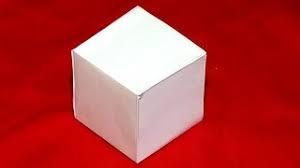cubos: (67, 4, 212, 165)
